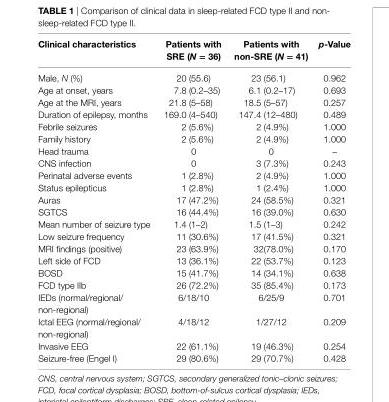table: (37, 37, 349, 362)
table column: (37, 37, 156, 362), (226, 37, 312, 362), (156, 37, 226, 362), (312, 37, 349, 362)
table column header: (37, 37, 349, 67)
table row: (37, 37, 349, 67), (37, 314, 349, 339), (37, 290, 349, 314), (37, 67, 349, 83), (37, 119, 349, 132), (37, 192, 349, 205), (37, 253, 349, 266), (37, 83, 349, 95), (37, 95, 349, 107), (37, 107, 349, 119), (37, 132, 349, 144), (37, 144, 349, 156), (37, 156, 349, 168), (37, 168, 349, 180), (37, 180, 349, 192), (37, 205, 349, 217), (37, 217, 349, 229), (37, 229, 349, 241), (37, 241, 349, 253), (37, 266, 349, 278), (37, 278, 349, 290), (37, 339, 349, 351), (37, 351, 349, 362)
